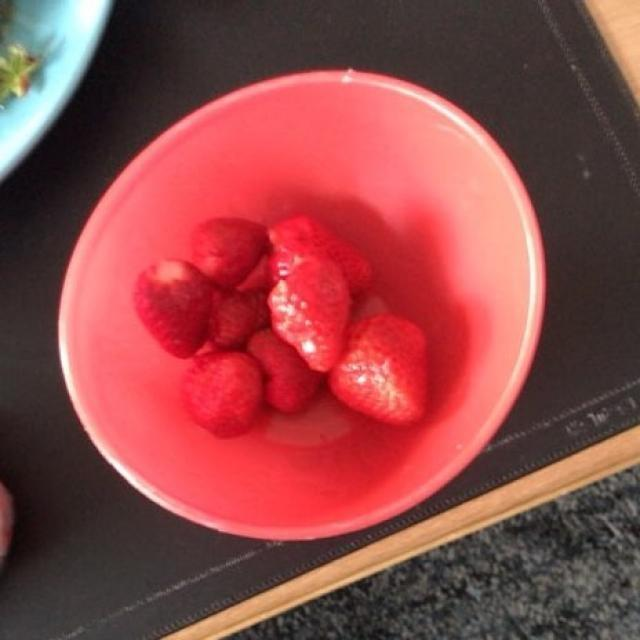strawberries: (139, 216, 421, 431)
